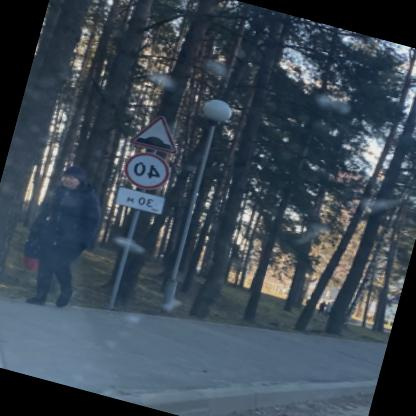speedlimit: (122, 146, 176, 192)
